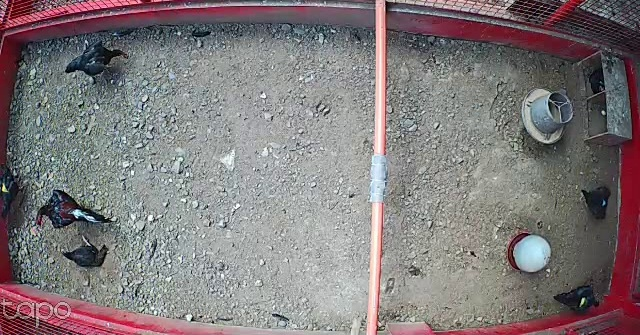Chicken: (60, 37, 130, 83), (551, 283, 602, 314), (576, 185, 614, 223), (0, 160, 21, 218)
Rooster: (33, 187, 113, 231)
Saddle_Color_Yellow: (2, 183, 8, 194)
Saddle_Color_YellowGreen: (578, 298, 588, 308)
